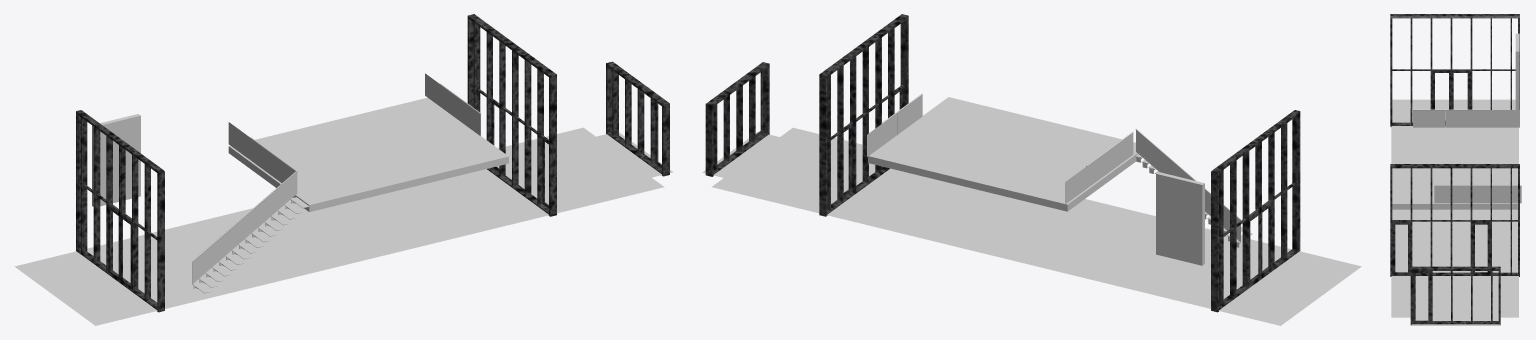
The picture shows the model from 3 angles, left to right: view 1: azimuth 30°, elevation 25°; view 2: azimuth 150°, elevation 25°; view 3: azimuth 270°, elevation 25°; orthographic projection. The views are drawn at different scales.
Visible parts, largest first — view 1: Structural_-_Bearing Concrete_-_03_23(52A6A285-72D2-44C6-902, Finish_-_Wall Metal_-_Aluminium FLAT_PART(ABB6ABCF-E705-45E0, dark(B64AA04D-2CF0-417F-8B5D-502FB7DCD2F9), Structural_-_Bearing Floorboards_-_03(E7607076-FD19-404F-BE9, Structural_-_Bearing Concrete_-_02_23(EAA83ED4-9A7C-4432-8B8, fabric_painting(14DC20CB-E597-4D9B-8431-9350ADD686BF), Interior_-_Stair_&_Railing Glass_-_Clear_Fast(9DBDD3BE-B4E1-, Structural_-_Stair_&_Railing Wood_-_Pine_Grained_Horizontal , Interior_-_Stair_&_Railing Glass_-_Clear_Fast(81C7BA2C-7BEE-, Interior_-_Stair_&_Railing Glass_-_Clear_Fast(D939DC1C-82A4-, Interior_-_Stair_&_Railing Glass_-_Clear_Fast(28EF8EFB-38B1-, Interior_-_Stair_&_Railing Glass_-_Clear_Fast(9B2A7E52-9475-; view 2: Structural_-_Bearing Concrete_-_03_23(52A6A285-72D2-44C6-902, Finish_-_Wall Metal_-_Aluminium FLAT_PART(ABB6ABCF-E705-45E0, dark(B64AA04D-2CF0-417F-8B5D-502FB7DCD2F9), Structural_-_Bearing Floorboards_-_03(E7607076-FD19-404F-BE9, fabric_painting(14DC20CB-E597-4D9B-8431-9350ADD686BF), Interior_-_Stair_&_Railing Glass_-_Clear_Fast(9DBDD3BE-B4E1-, Structural_-_Bearing Concrete_-_02_23(EAA83ED4-9A7C-4432-8B8, Interior_-_Stair_&_Railing Glass_-_Clear_Fast(81C7BA2C-7BEE-; view 3: Finish_-_Wall Metal_-_Aluminium FLAT_PART(ABB6ABCF-E705-45E0, Structural_-_Bearing Concrete_-_03_23(52A6A285-72D2-44C6-902, dark(B64AA04D-2CF0-417F-8B5D-502FB7DCD2F9), Structural_-_Bearing Floorboards_-_03(E7607076-FD19-404F-BE9, Structural_-_Bearing Concrete_-_02_23(EAA83ED4-9A7C-4432-8B8, Interior_-_Stair_&_Railing Glass_-_Clear_Fast(9DBDD3BE-B4E1-, Interior_-_Stair_&_Railing Glass_-_Clear_Fast(81C7BA2C-7BEE-, fabric_painting(14DC20CB-E597-4D9B-8431-9350ADD686BF), Interior_-_Stair_&_Railing Glass_-_Clear_Fast(A3224220-A51C-, Interior_-_Stair_&_Railing Glass_-_Clear_Fast(CB2CD869-A172-, Interior_-_Stair_&_Railing Glass_-_Clear_Fast(E0AAC789-4475-, Interior_-_Stair_&_Railing Glass_-_Clear_Fast(97EA30F4-2F2A- (+5 smaller).
Boxes of the visible parts, x1=… form: Structural_-_Bearing Concrete_-_03_23(52A6A285-72D2-44C6-902: x1=14, y1=132, x2=673, y2=325; Finish_-_Wall Metal_-_Aluminium FLAT_PART(ABB6ABCF-E705-45E0: x1=76, y1=14, x2=669, y2=312; dark(B64AA04D-2CF0-417F-8B5D-502FB7DCD2F9): x1=228, y1=97, x2=508, y2=211; Structural_-_Bearing Floorboards_-_03(E7607076-FD19-404F-BE9: x1=497, y1=127, x2=638, y2=194; Structural_-_Bearing Concrete_-_02_23(EAA83ED4-9A7C-4432-8B8: x1=532, y1=168, x2=664, y2=213; fabric_painting(14DC20CB-E597-4D9B-8431-9350ADD686BF): x1=92, y1=114, x2=140, y2=206; Interior_-_Stair_&_Railing Glass_-_Clear_Fast(9DBDD3BE-B4E1-: x1=214, y1=122, x2=295, y2=263; Structural_-_Stair_&_Railing Wood_-_Pine_Grained_Horizontal : x1=193, y1=197, x2=308, y2=292; Interior_-_Stair_&_Railing Glass_-_Clear_Fast(81C7BA2C-7BEE-: x1=425, y1=73, x2=480, y2=135; Interior_-_Stair_&_Railing Glass_-_Clear_Fast(D939DC1C-82A4-: x1=236, y1=205, x2=258, y2=244; Interior_-_Stair_&_Railing Glass_-_Clear_Fast(28EF8EFB-38B1-: x1=192, y1=243, x2=214, y2=282; Interior_-_Stair_&_Railing Glass_-_Clear_Fast(9B2A7E52-9475-: x1=258, y1=186, x2=280, y2=225; Structural_-_Bearing Concrete_-_03_23(52A6A285-72D2-44C6-902: x1=702, y1=132, x2=1361, y2=325; Finish_-_Wall Metal_-_Aluminium FLAT_PART(ABB6ABCF-E705-45E0: x1=705, y1=14, x2=1300, y2=312; dark(B64AA04D-2CF0-417F-8B5D-502FB7DCD2F9): x1=868, y1=97, x2=1137, y2=211; Structural_-_Bearing Floorboards_-_03(E7607076-FD19-404F-BE9: x1=712, y1=146, x2=874, y2=213; fabric_painting(14DC20CB-E597-4D9B-8431-9350ADD686BF): x1=1156, y1=172, x2=1204, y2=265; Interior_-_Stair_&_Railing Glass_-_Clear_Fast(9DBDD3BE-B4E1-: x1=1065, y1=130, x2=1240, y2=240; Structural_-_Bearing Concrete_-_02_23(EAA83ED4-9A7C-4432-8B8: x1=768, y1=127, x2=875, y2=172; Interior_-_Stair_&_Railing Glass_-_Clear_Fast(81C7BA2C-7BEE-: x1=867, y1=95, x2=922, y2=156; Finish_-_Wall Metal_-_Aluminium FLAT_PART(ABB6ABCF-E705-45E0: x1=1390, y1=14, x2=1519, y2=325; Structural_-_Bearing Concrete_-_03_23(52A6A285-72D2-44C6-902: x1=1391, y1=99, x2=1518, y2=325; dark(B64AA04D-2CF0-417F-8B5D-502FB7DCD2F9): x1=1391, y1=127, x2=1517, y2=209; Structural_-_Bearing Floorboards_-_03(E7607076-FD19-404F-BE9: x1=1432, y1=276, x2=1518, y2=317; Structural_-_Bearing Concrete_-_02_23(EAA83ED4-9A7C-4432-8B8: x1=1391, y1=276, x2=1428, y2=317; Interior_-_Stair_&_Railing Glass_-_Clear_Fast(9DBDD3BE-B4E1-: x1=1485, y1=110, x2=1519, y2=127; Interior_-_Stair_&_Railing Glass_-_Clear_Fast(81C7BA2C-7BEE-: x1=1494, y1=185, x2=1521, y2=203; fabric_painting(14DC20CB-E597-4D9B-8431-9350ADD686BF): x1=1515, y1=33, x2=1519, y2=109; Interior_-_Stair_&_Railing Glass_-_Clear_Fast(A3224220-A51C-: x1=1465, y1=110, x2=1485, y2=127; Interior_-_Stair_&_Railing Glass_-_Clear_Fast(CB2CD869-A172-: x1=1446, y1=110, x2=1465, y2=127; Interior_-_Stair_&_Railing Glass_-_Clear_Fast(E0AAC789-4475-: x1=1426, y1=110, x2=1445, y2=127; Interior_-_Stair_&_Railing Glass_-_Clear_Fast(97EA30F4-2F2A-: x1=1434, y1=186, x2=1453, y2=203.
Size of what is drawn, in the model's own units: 0.268 by 0.061 by 0.0656.
Materials: 2 (1 with a texture image).
